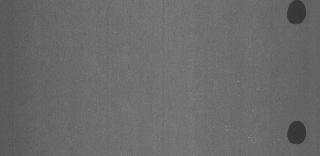oil spot: (282, 0, 308, 30), (286, 116, 306, 150)
